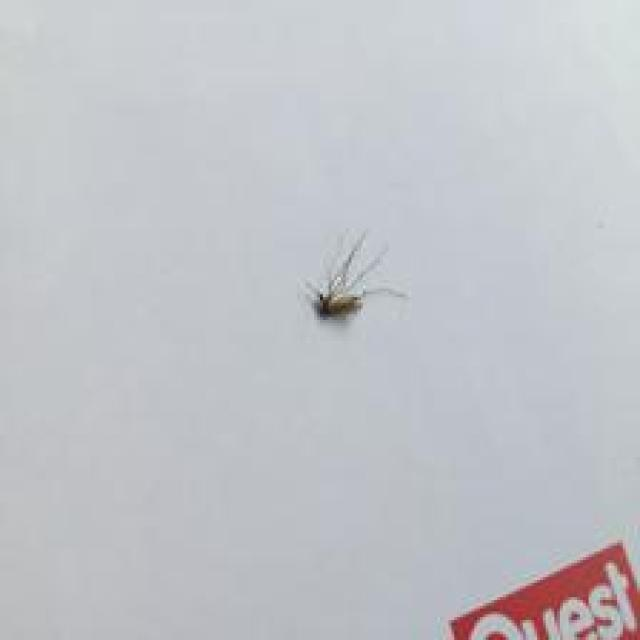Culex: (300, 227, 409, 324)
